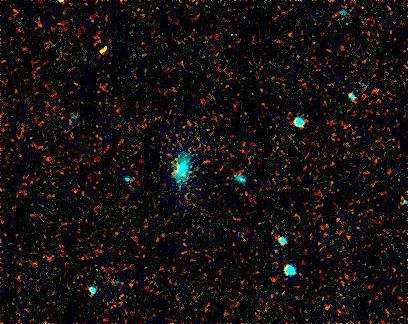star: (90, 37, 120, 67)
